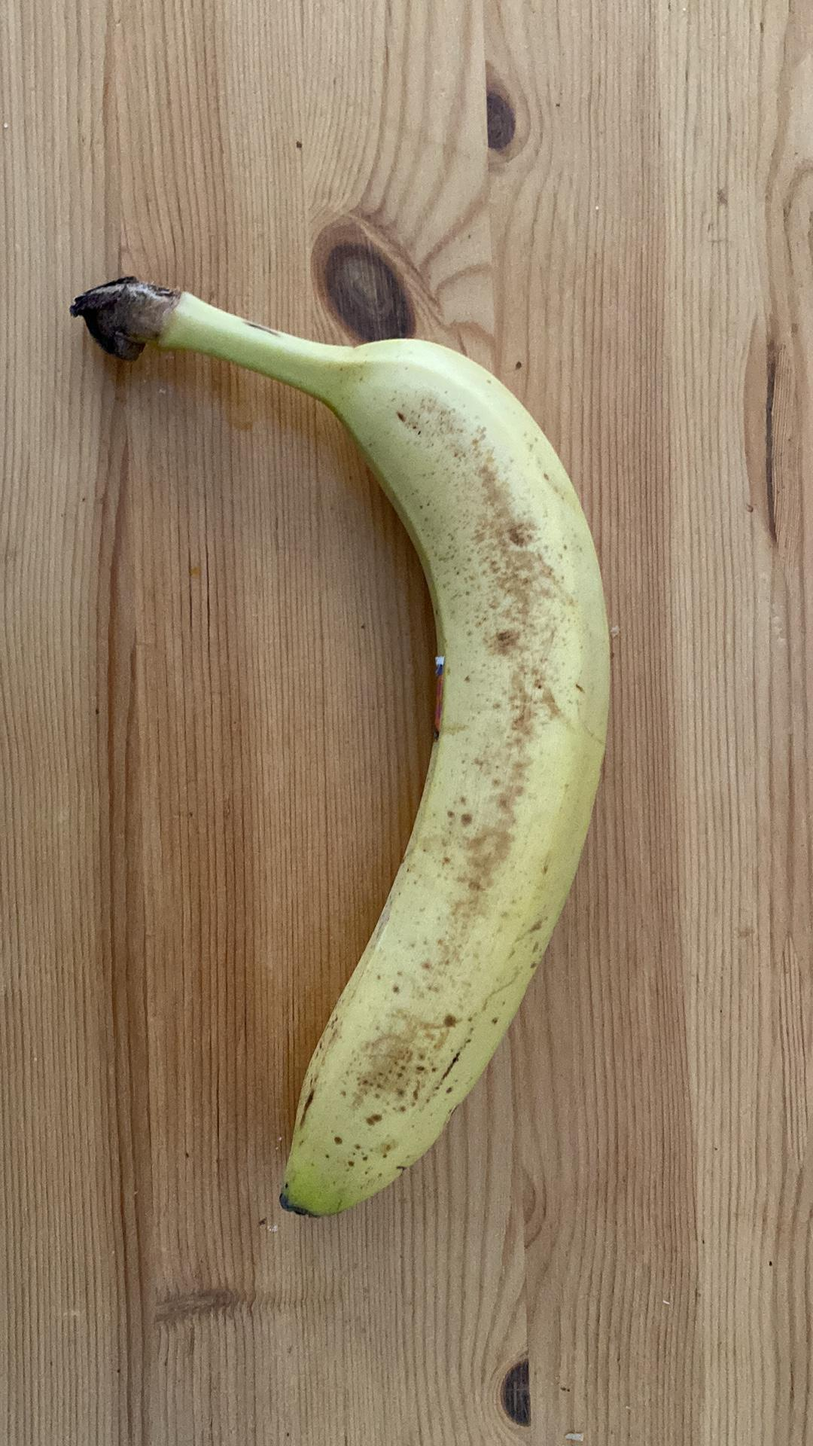banana: (72, 260, 617, 1224)
